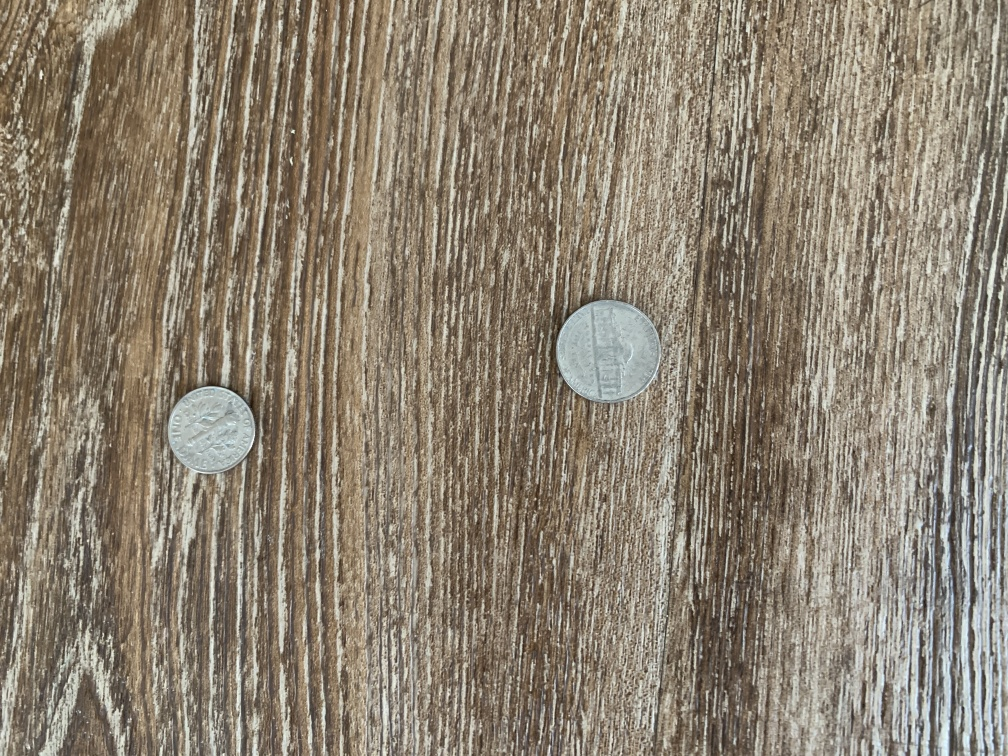dime: (161, 379, 263, 481)
nickel: (547, 297, 667, 409)
